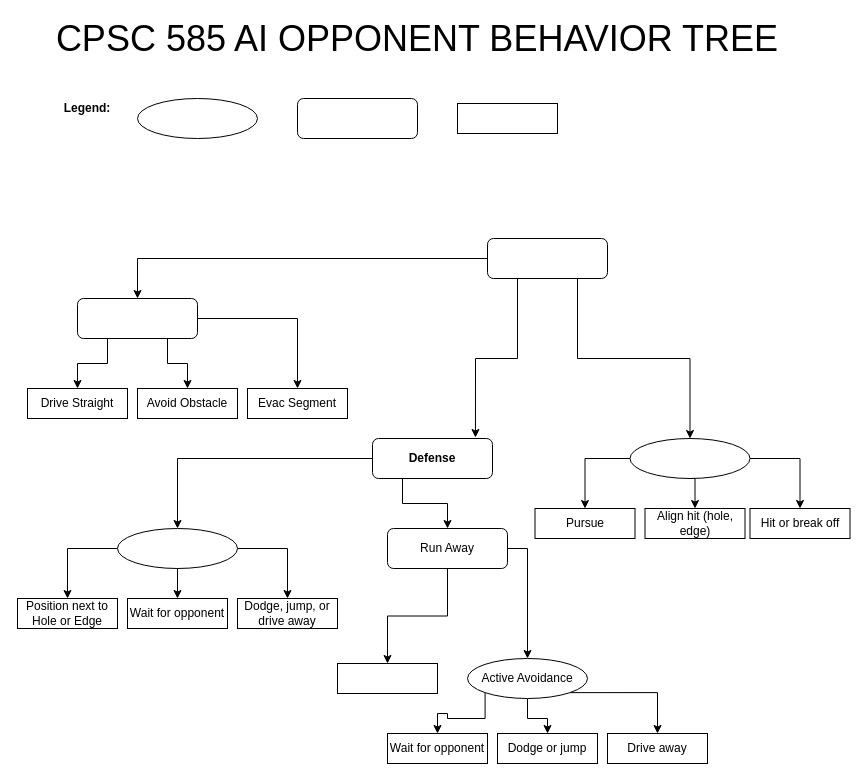
Image size: 868x781. Some labels were removed from this diagram. The shapes that lost their labels are listed below. From the top down, each one's box as (x1, y1, x2, y2) in pixels, then its label:
(136, 98, 258, 138): Sequence
(296, 98, 418, 138): Selector
(456, 102, 558, 134): Behavior
(486, 238, 608, 278): Root*
(76, 298, 198, 338): Drive Around
(629, 438, 750, 478): Attack
(116, 528, 238, 568): Set a Trap
(336, 662, 438, 694): Drive away immediately
